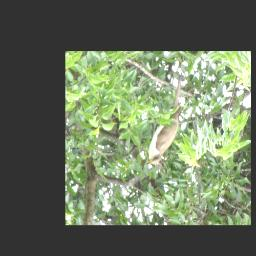Cuckoo: (143, 71, 185, 167)
